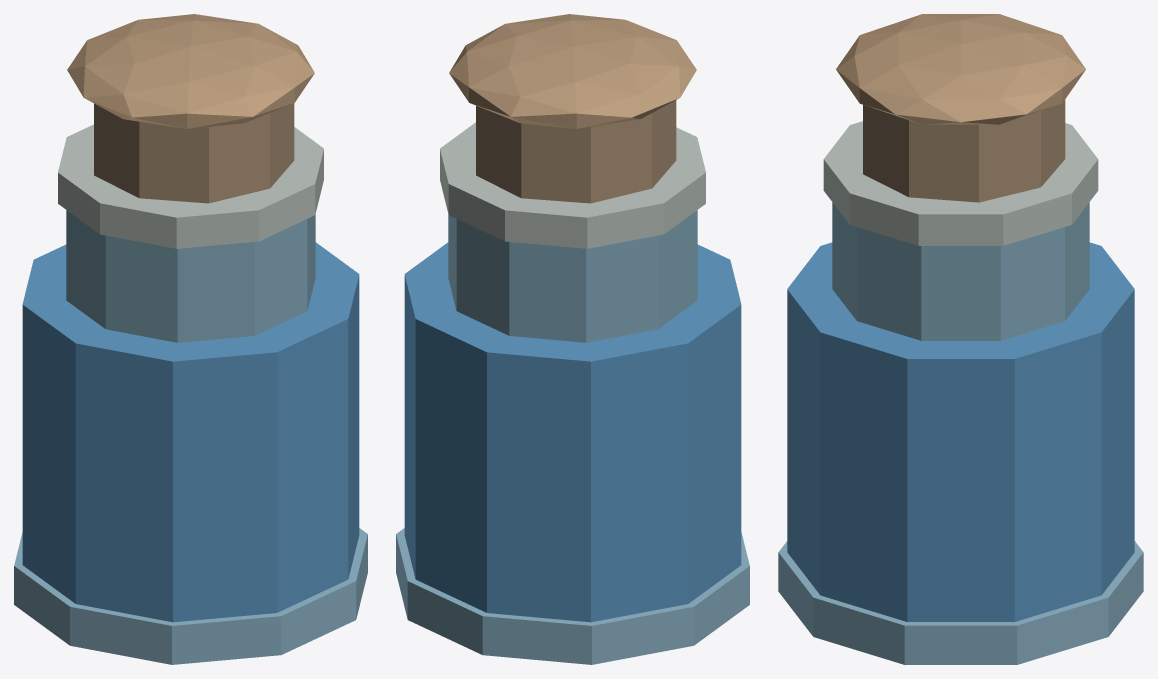
File: mana-potion.glb
3 views of the same model, side by side, from view 1: azimuth 30°, elevation 25°; view 2: azimuth 150°, elevation 25°; view 3: azimuth 270°, elevation 25° (orthographic).
Parts seen in each view (by area): view 1: mana-potion-00, mana-potion-02, mana-potion-05, mana-potion-01, mana-potion-03, mana-potion-04; view 2: mana-potion-00, mana-potion-02, mana-potion-05, mana-potion-01, mana-potion-03, mana-potion-04; view 3: mana-potion-00, mana-potion-02, mana-potion-05, mana-potion-01, mana-potion-03, mana-potion-04.
Boxes of the visible parts, x1,y1,x2,y2 form: mana-potion-00: (22, 242, 359, 622); mana-potion-02: (66, 210, 315, 342); mana-potion-05: (67, 14, 314, 128); mana-potion-01: (14, 528, 367, 664); mana-potion-03: (58, 124, 323, 248); mana-potion-04: (94, 103, 294, 203); mana-potion-00: (404, 242, 741, 622); mana-potion-02: (448, 210, 697, 342); mana-potion-05: (449, 14, 696, 128); mana-potion-01: (396, 528, 749, 664); mana-potion-03: (440, 122, 705, 248); mana-potion-04: (476, 100, 676, 203); mana-potion-00: (787, 242, 1134, 621); mana-potion-02: (832, 202, 1089, 340); mana-potion-05: (836, 14, 1085, 124); mana-potion-01: (778, 541, 1143, 664); mana-potion-03: (823, 121, 1098, 245); mana-potion-04: (863, 99, 1065, 202).
Bounding box in the file's own units: 0.1997 × 0.3475 × 0.21.
